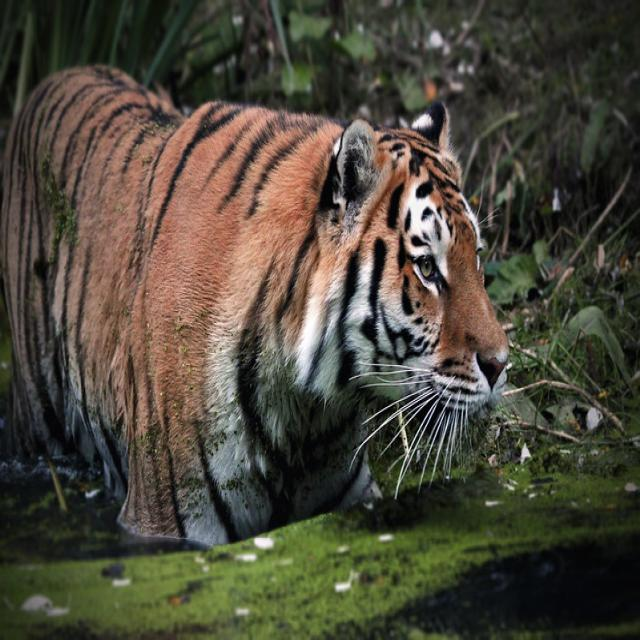Tiger: (0, 61, 507, 549)
